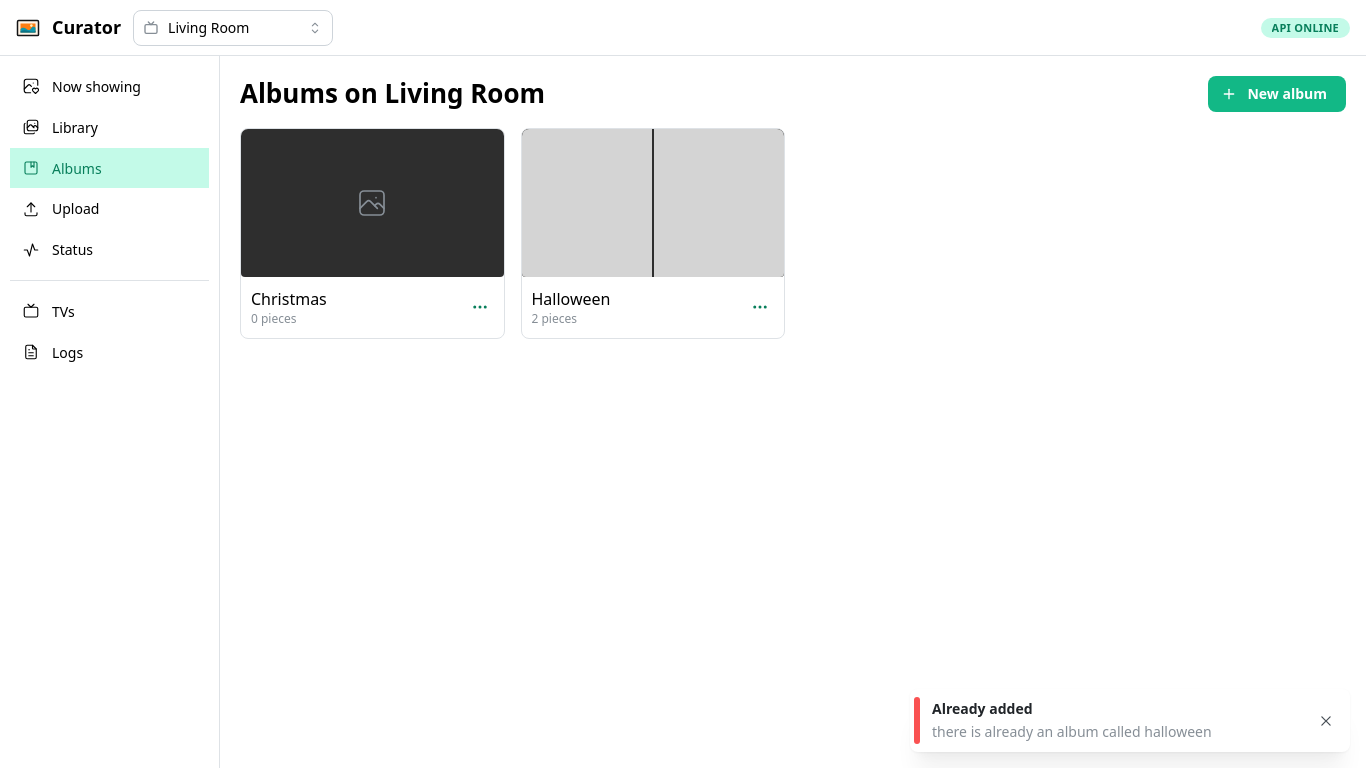
albums › renames an album
The image size is (1366, 768).
Click the button named "Actions for Halloween": click(760, 308) [746,294,774,322]
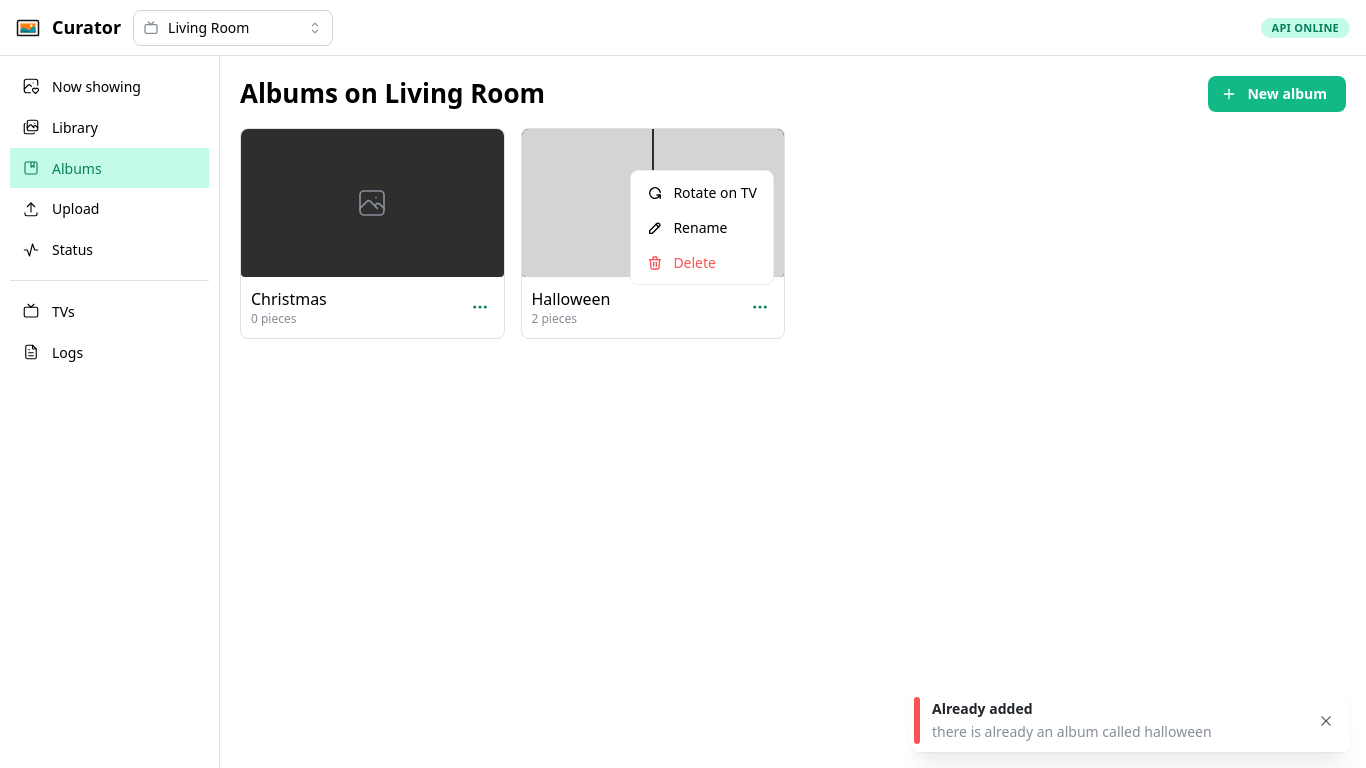
Click the menu item "Rename": click(702, 228) [635,210,769,246]
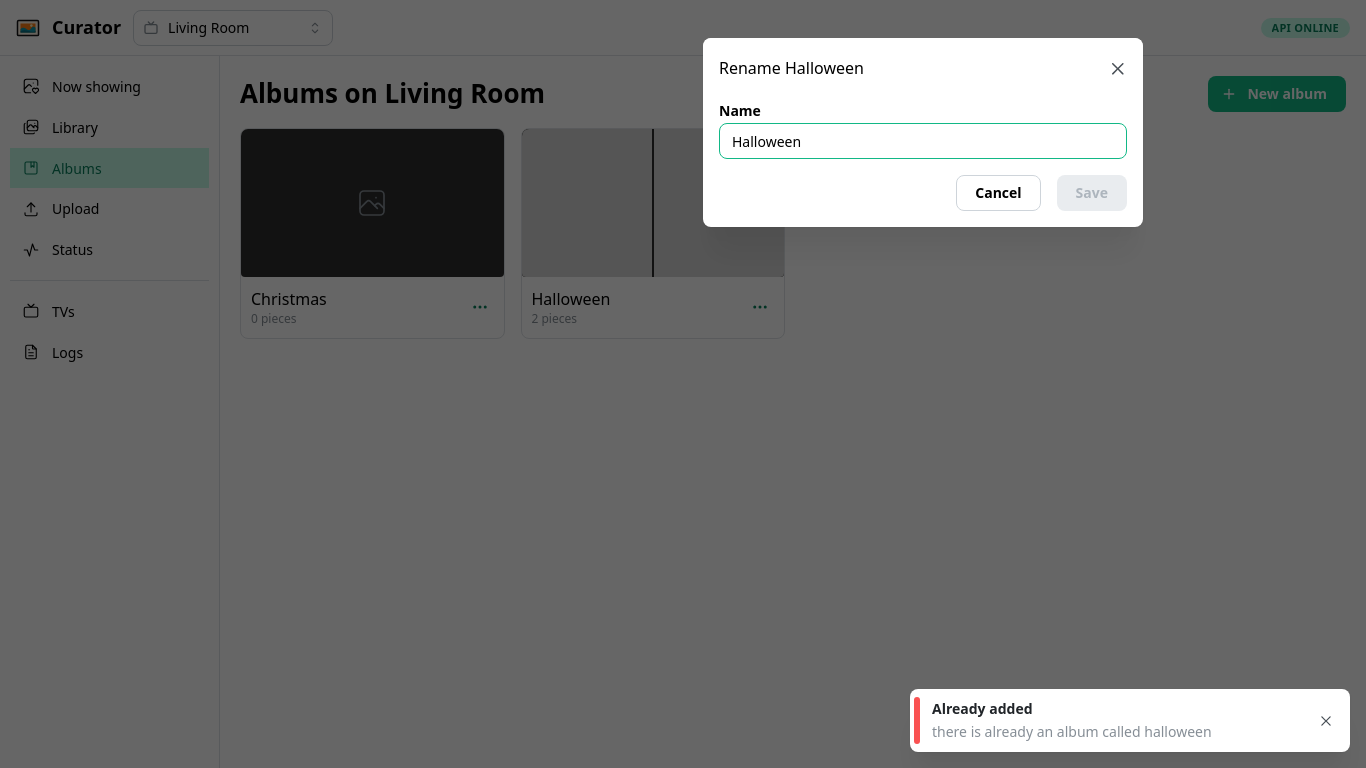
In the field labelled "Name": (923, 141) [719,123,1127,159], type "Spooky"
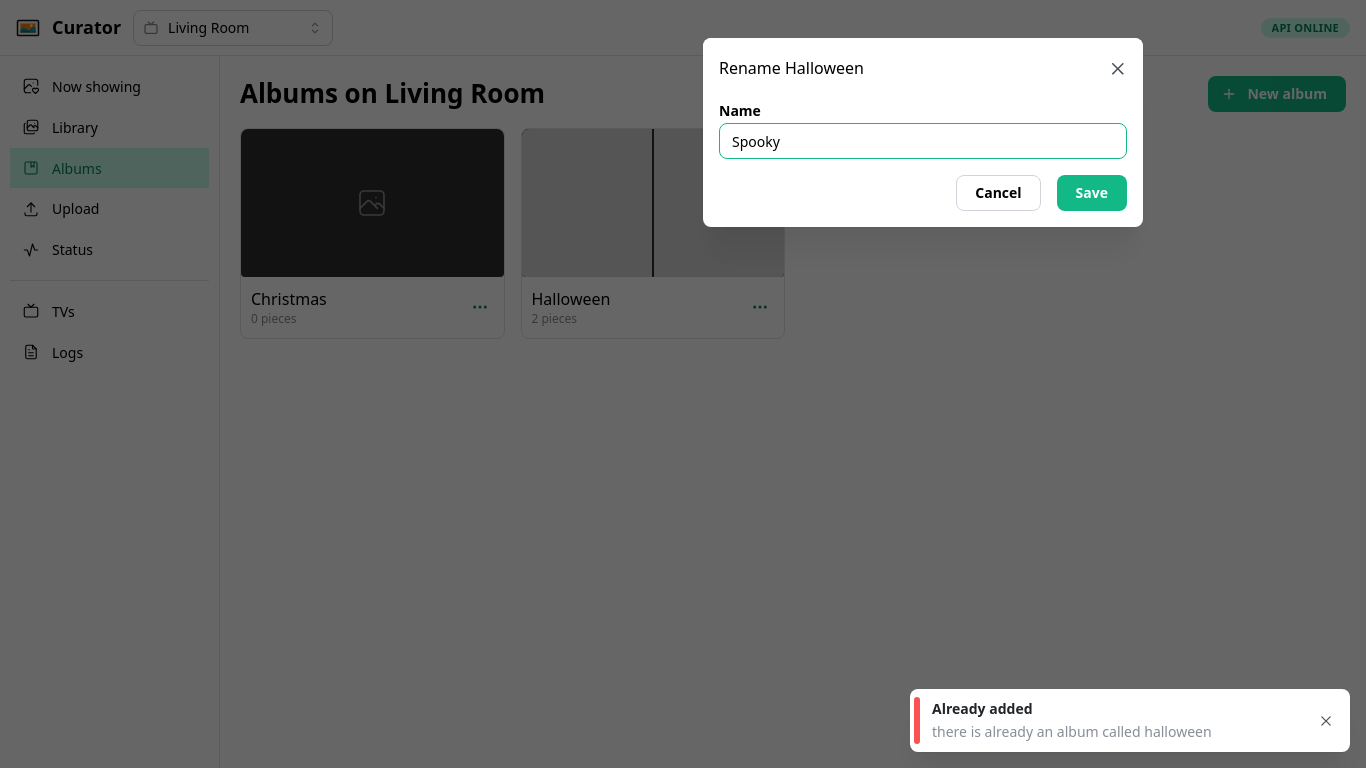
Click the button "Save": click(1092, 193) [1057,175,1127,211]
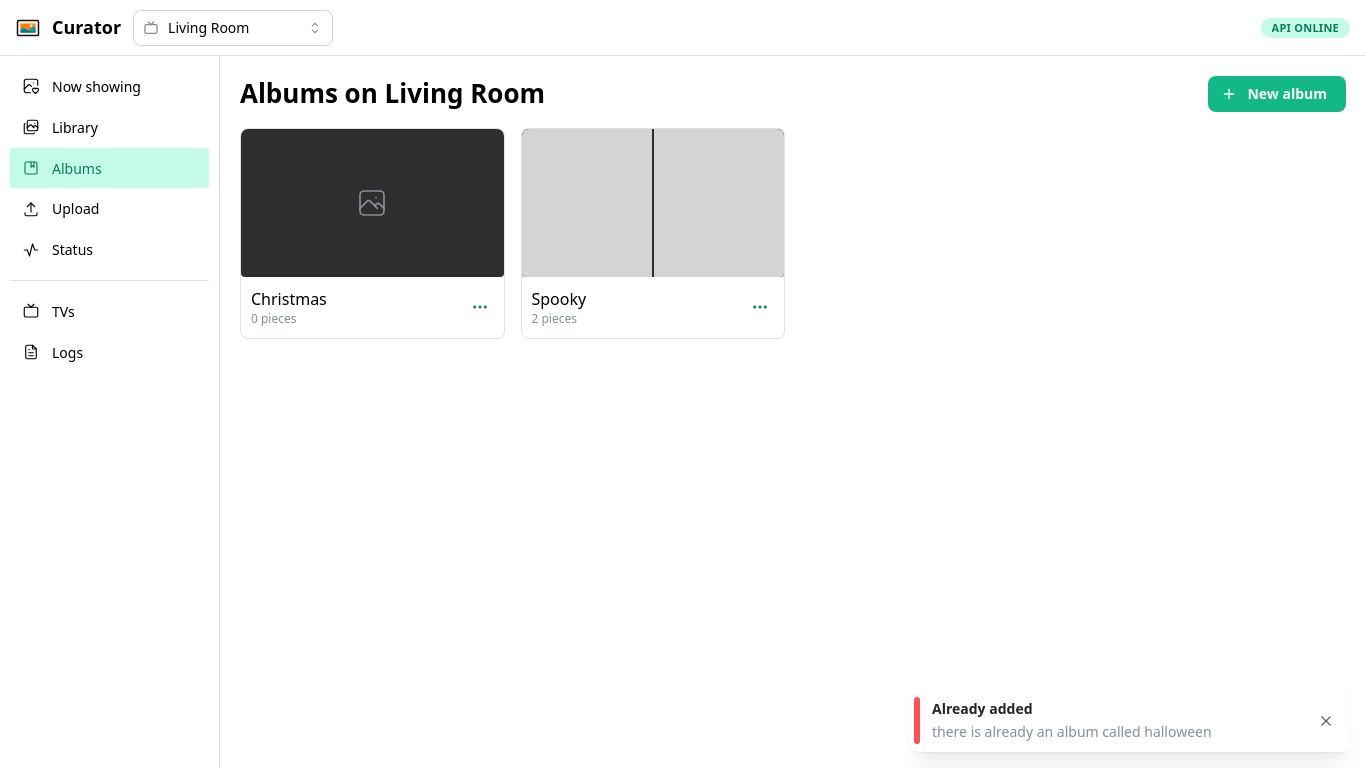
Expected: the link "Spooky" is shown, [532,287,586,312]
